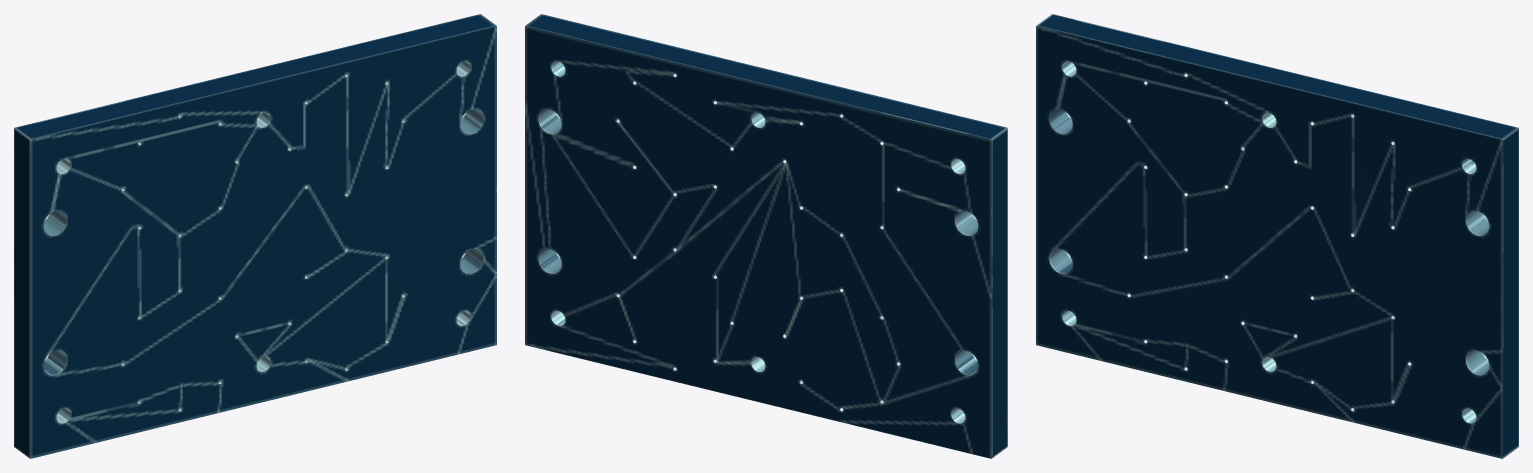
Rendered from Mold3-Ejector plate-M.glb.
The picture shows the model from 3 angles, left to right: view 1: azimuth 30°, elevation 25°; view 2: azimuth 150°, elevation 25°; view 3: azimuth 330°, elevation 25°; orthographic projection.
Parts seen in each view (by area): view 1: plaque d'éjection; view 2: plaque d'éjection; view 3: plaque d'éjection.
Boxes of the visible parts, x1=… form: plaque d'éjection: x1=14, y1=14, x2=496, y2=458; plaque d'éjection: x1=525, y1=14, x2=1007, y2=458; plaque d'éjection: x1=1036, y1=14, x2=1518, y2=458.
Size of the model in its own units: 11.58 by 7.57 by 0.7029.
Materials: 1 (1 with a texture image).
